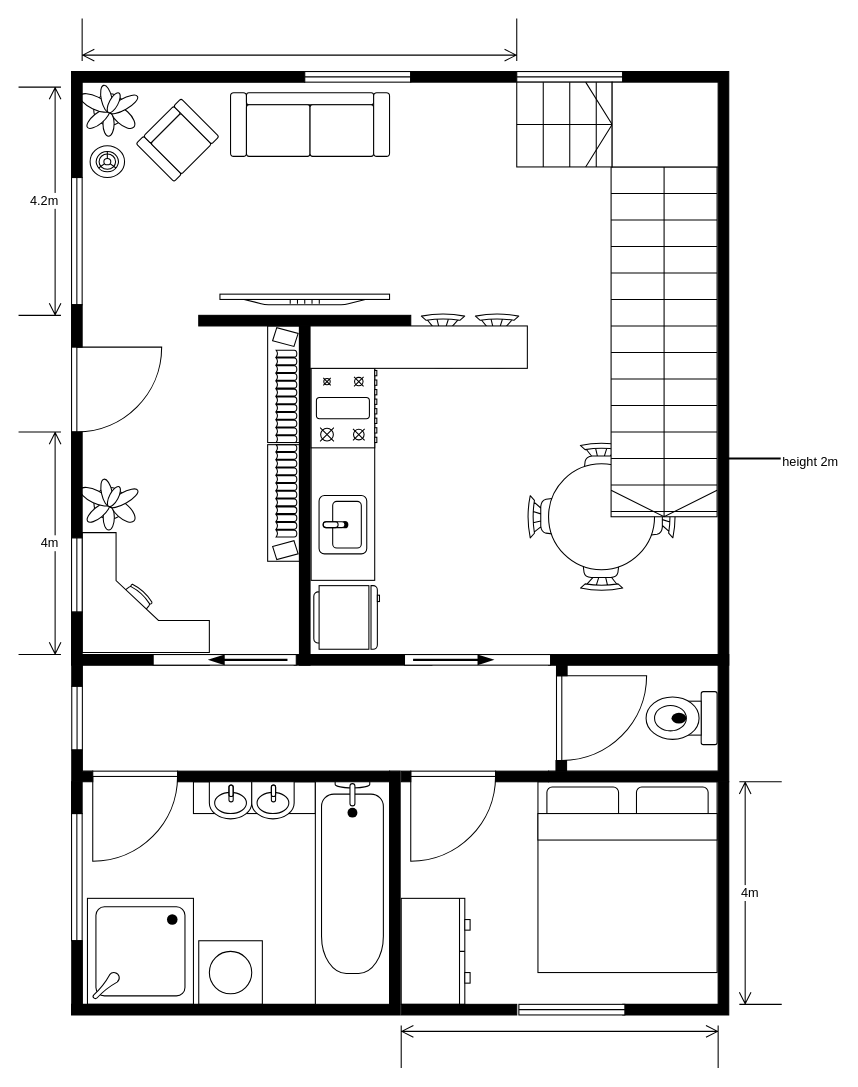
Image size: 858x1087. Some labels were removed from this diagram. The centre of each missing label's shape, as x and y in pixels:
"4.5m" goes at pixel 559 1046.
"6m" goes at pixel 299 39.
